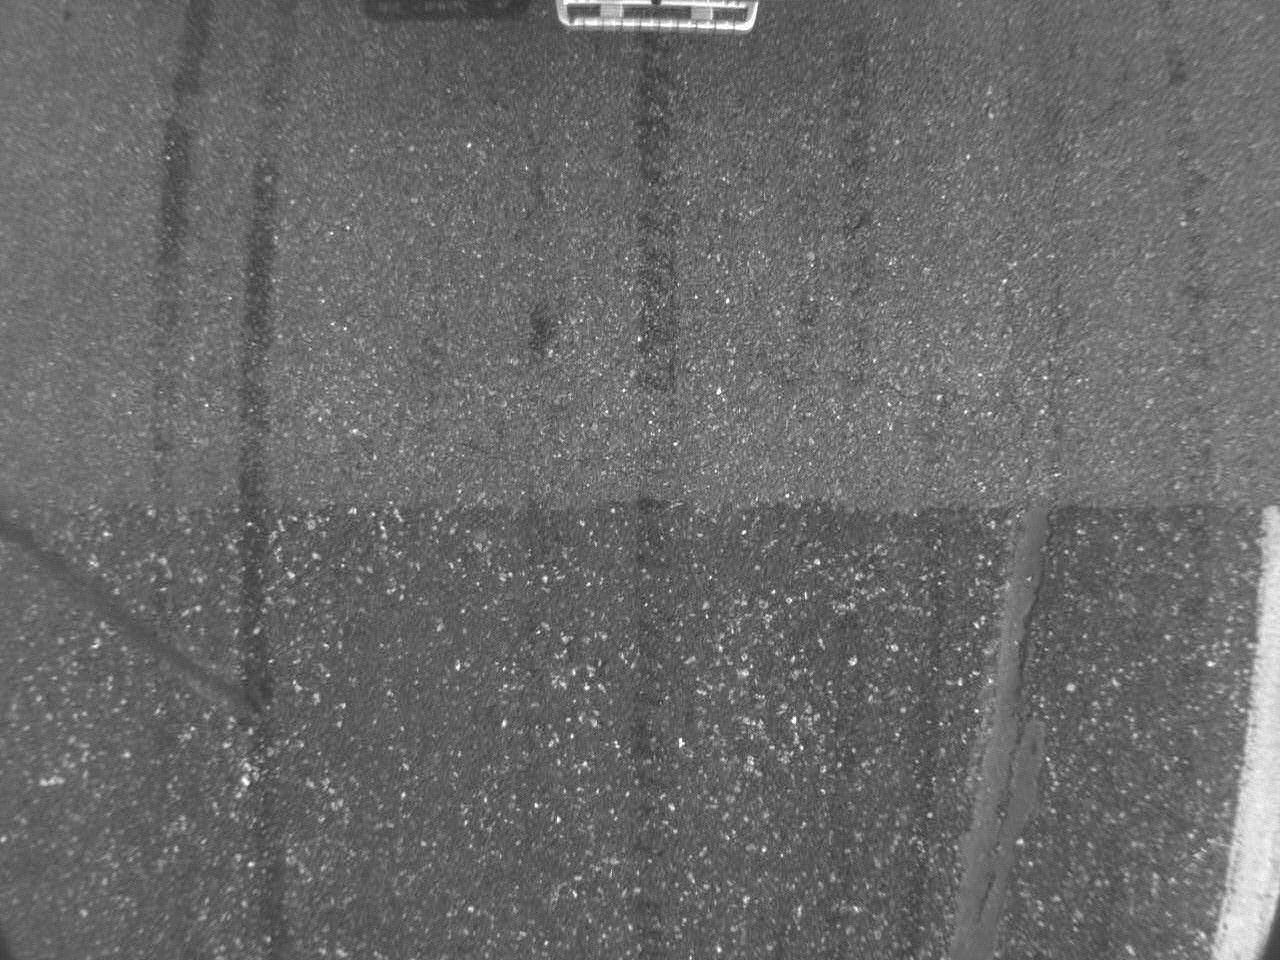sealed: (920, 484, 1062, 952)
